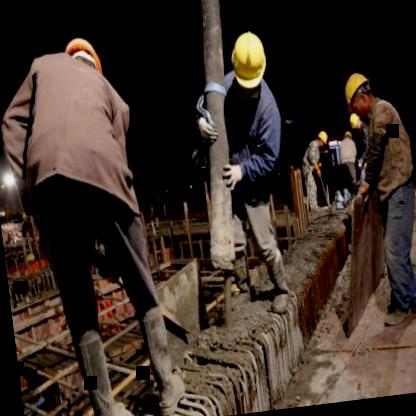helmet: (225, 24, 272, 95), (60, 34, 102, 84), (339, 67, 377, 122), (346, 112, 364, 134), (314, 128, 331, 151)
